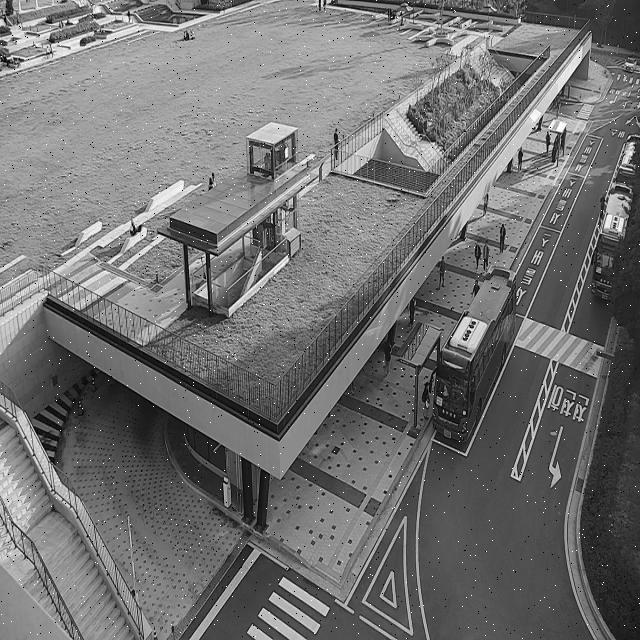queue: (414, 329, 438, 431)
